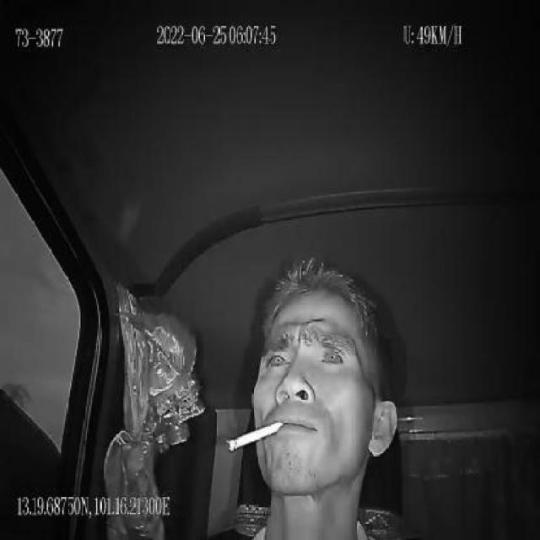smoking: (228, 415, 286, 453)
